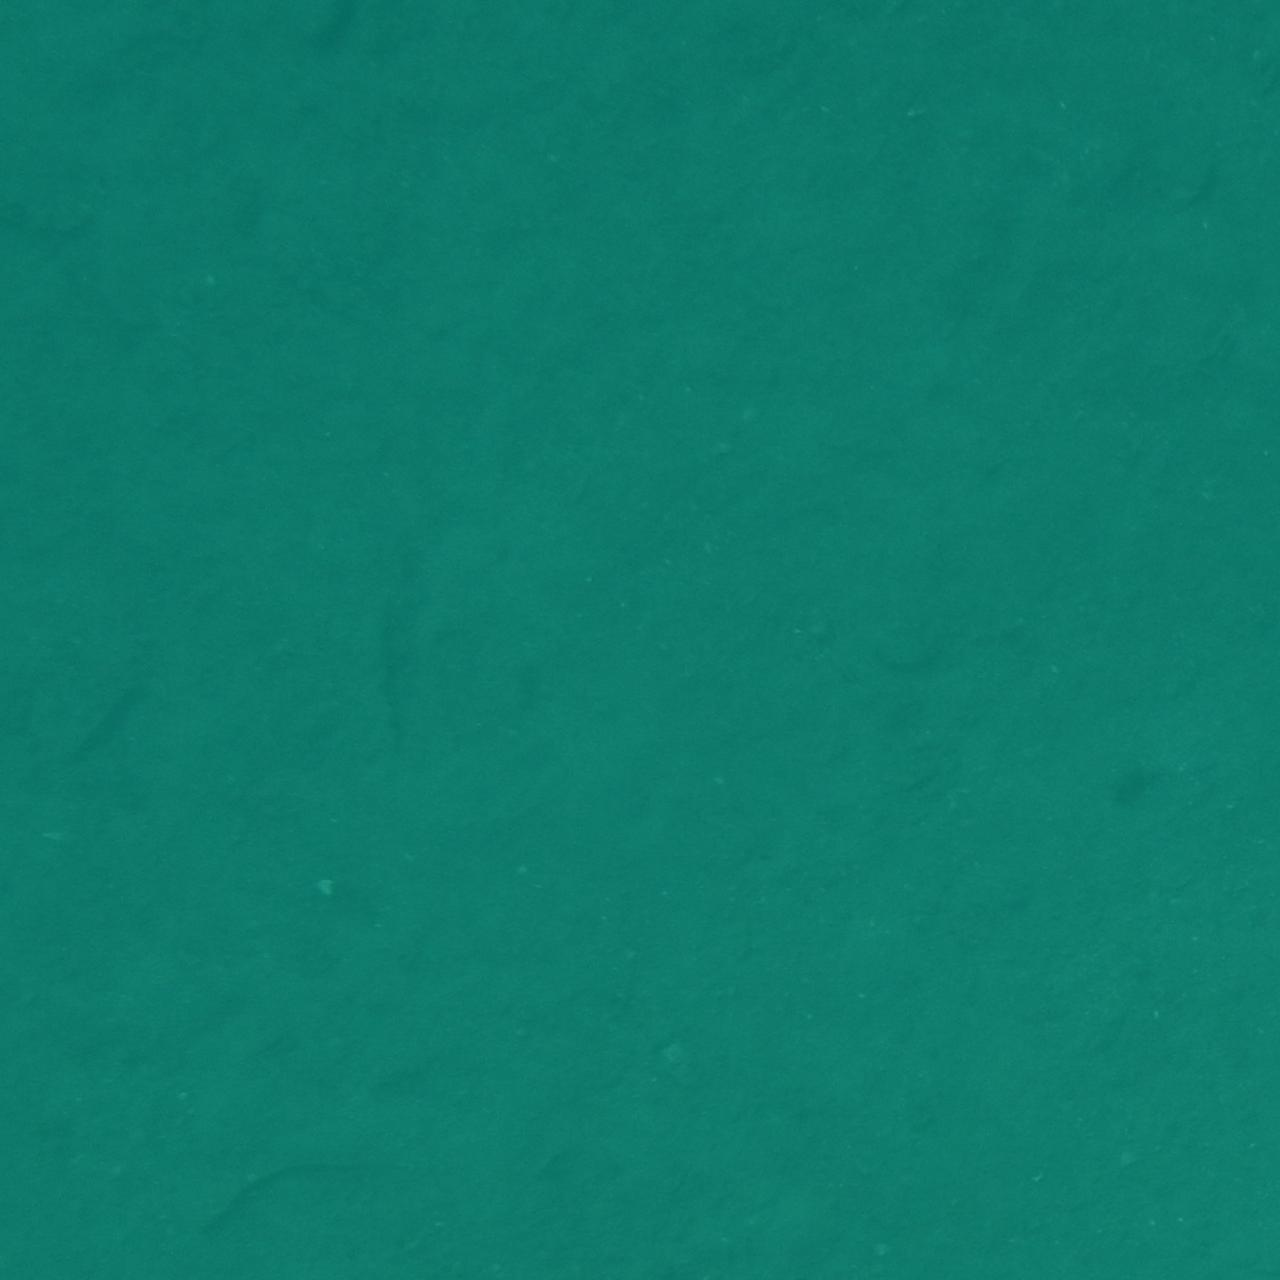Holothuria tubulosa: (104, 0, 288, 125), (368, 549, 457, 787), (274, 0, 448, 117), (149, 0, 403, 77), (947, 1196, 1126, 1280), (0, 168, 147, 268), (1002, 0, 1110, 135), (1185, 1133, 1280, 1280), (1171, 1073, 1280, 1194), (1169, 586, 1280, 699), (433, 0, 602, 69), (0, 724, 54, 938), (0, 1155, 89, 1280), (0, 1169, 95, 1280), (1160, 0, 1280, 83), (1169, 0, 1280, 82), (1205, 1169, 1280, 1280), (0, 0, 56, 115), (0, 0, 139, 42), (0, 1238, 137, 1280)
